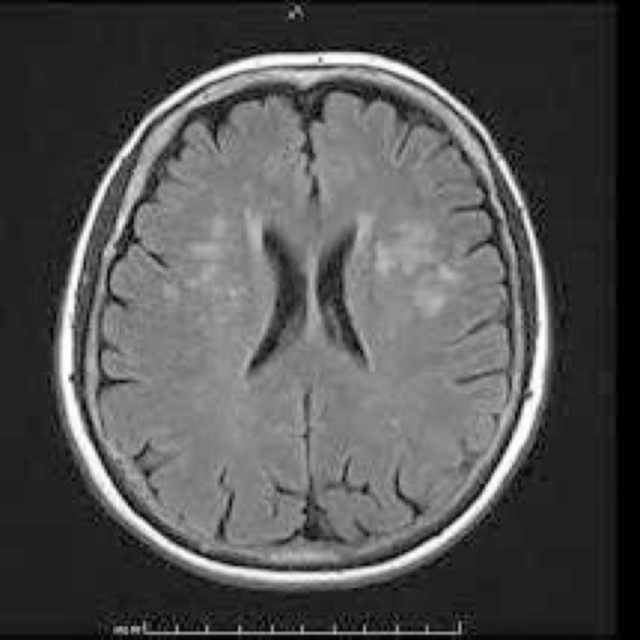glioma tumor: (167, 112, 458, 495)
